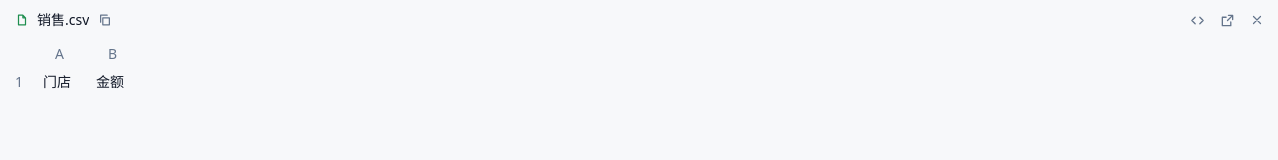
Test case: the file’s place, from the preview head › a CSV file is a table, and its own text behind 查看代码
Click the button named "查看代码". click: {"x": 1197, "y": 20}
box: 1183,6 -> 1211,34
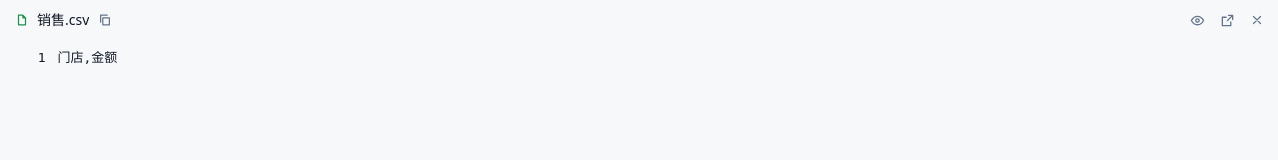
Result: the element showing "1 门店,金额" is shown at 38,50 -> 117,65
